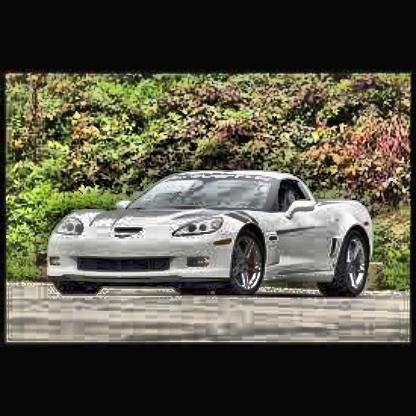Chevrolet Corvette Ron Fellows Edition Z06 2007: (45, 167, 377, 303)
